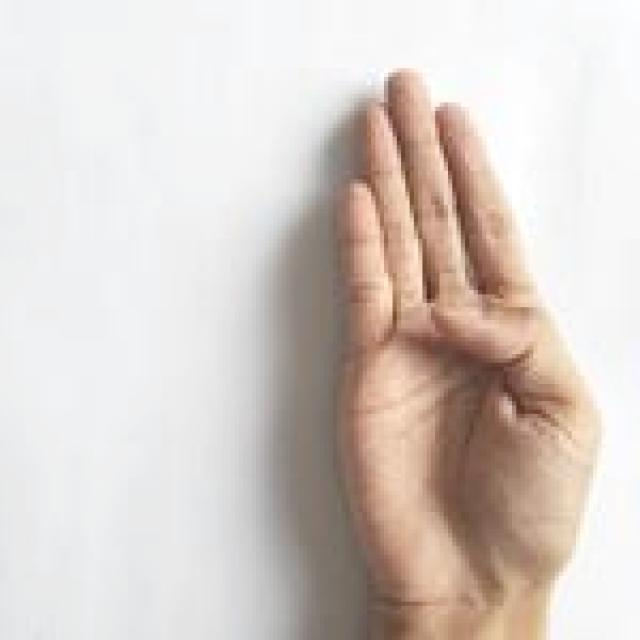B: (324, 65, 605, 640)
